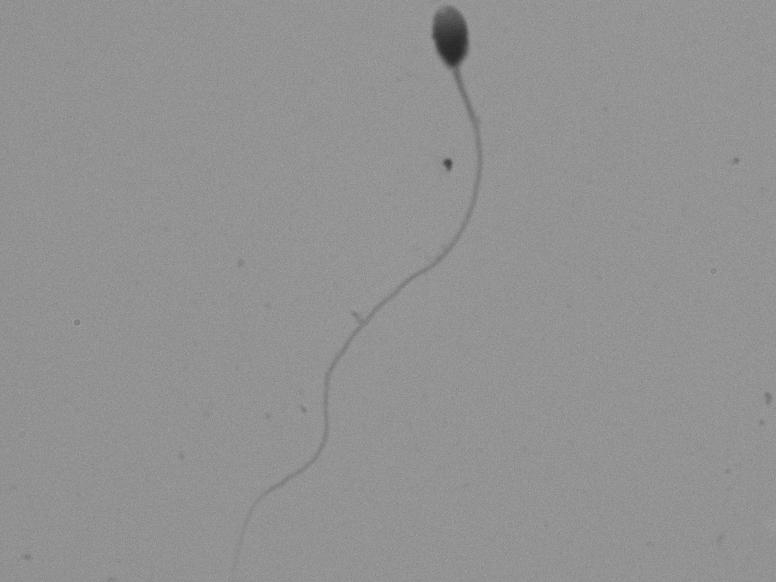Normal: (212, 3, 537, 556)
